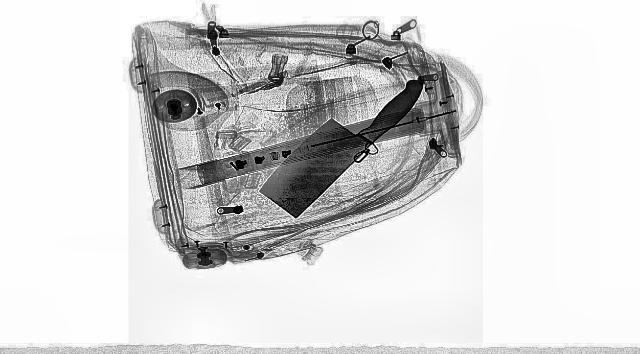Knife: (232, 70, 450, 219)
